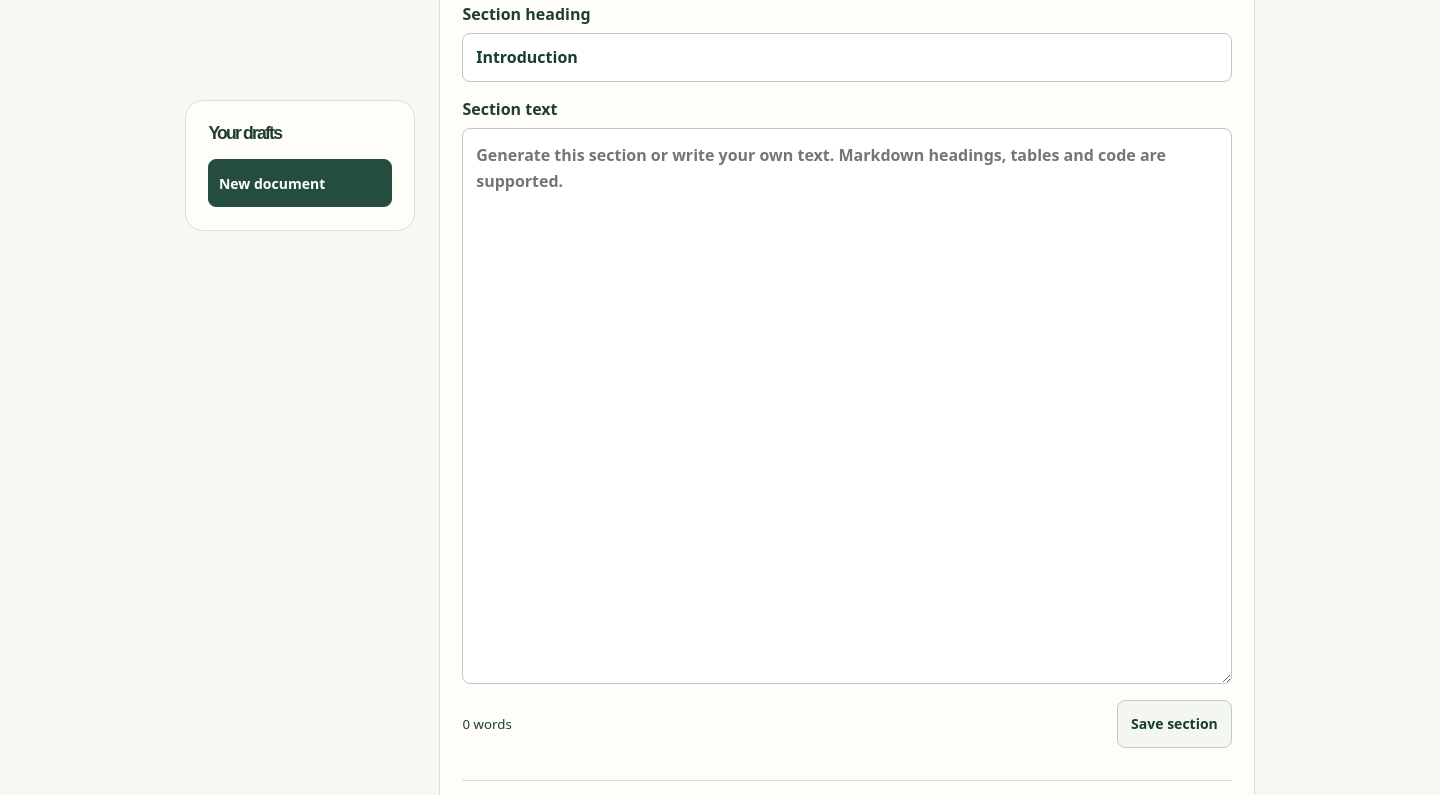
Test case: blocks generation/export until section edits are saved
(page scrolled)
Replace the text in the text box labelled "Section text" with "Force equals mass.". click: (847, 406)
box: [462,128,1232,684]
(page scrolled)
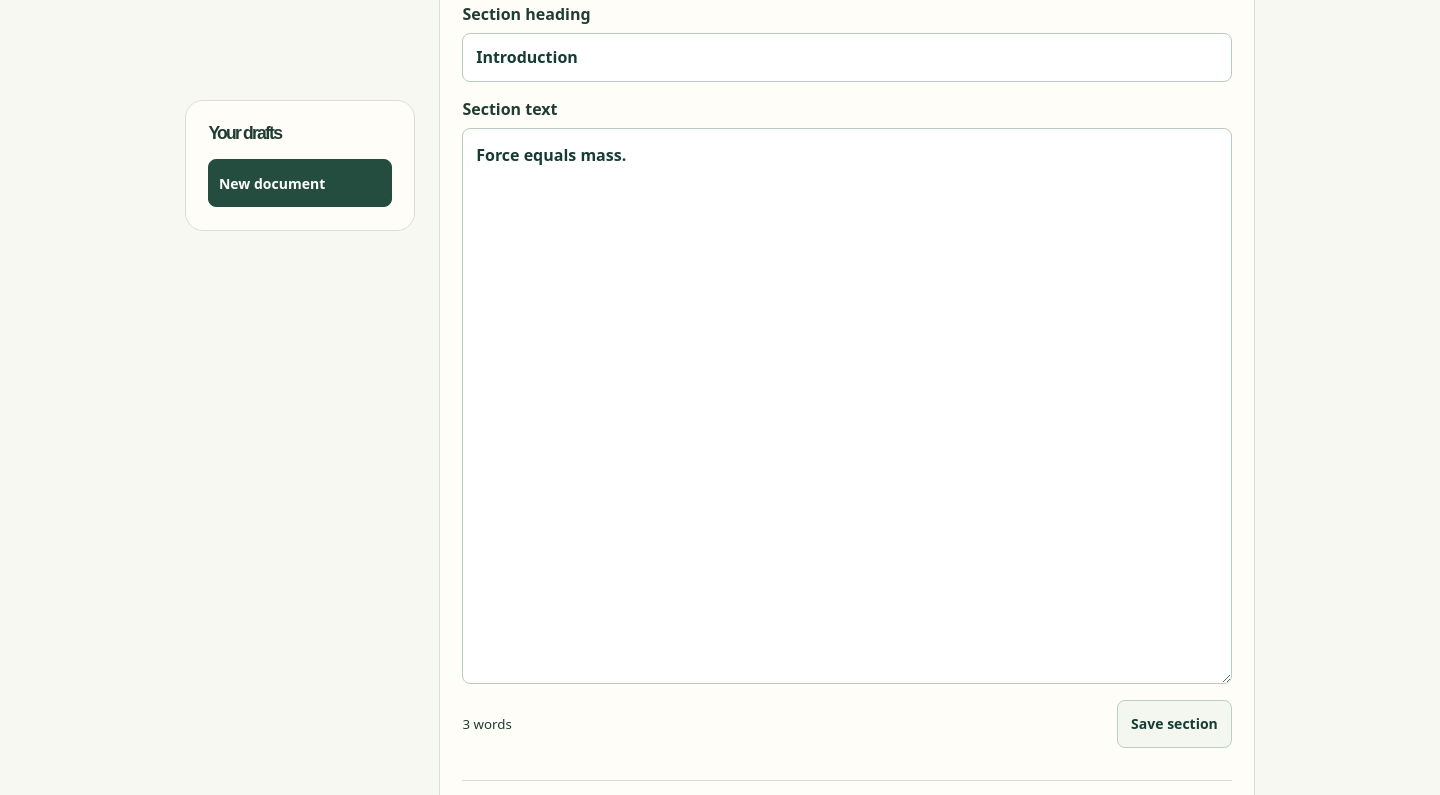
Click the button "Save section". click: (1174, 724)
box: [1117,700,1232,748]
(page scrolled)
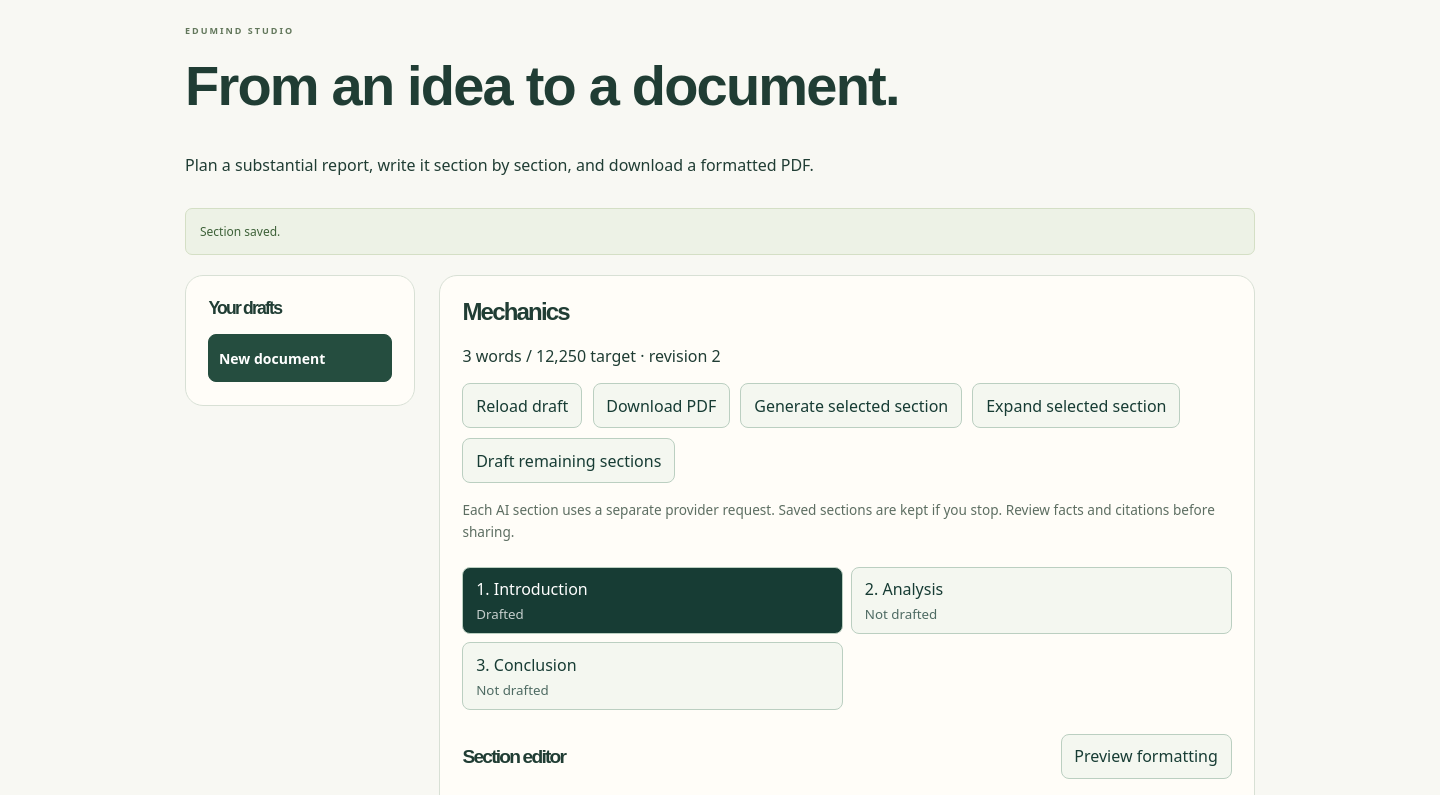
Expected: the text "Section saved." is shown, [185,208,1255,255]
Expected: the button "Download PDF" is enabled, [592,383,730,428]
